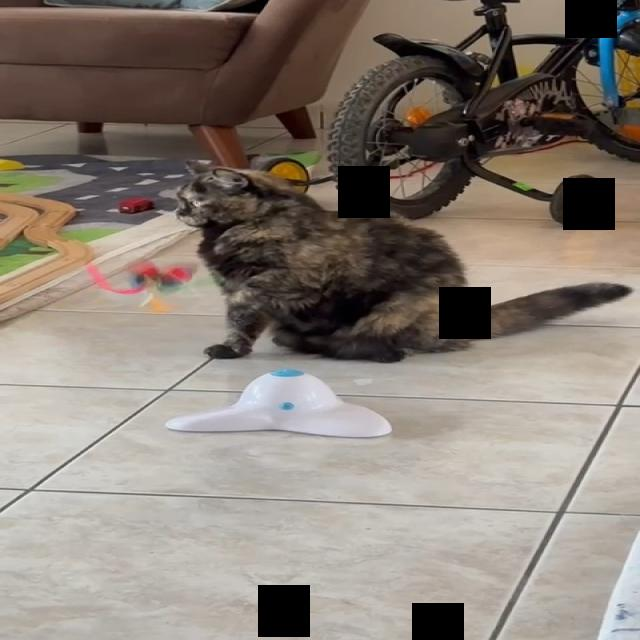authorized: (172, 159, 632, 363)
